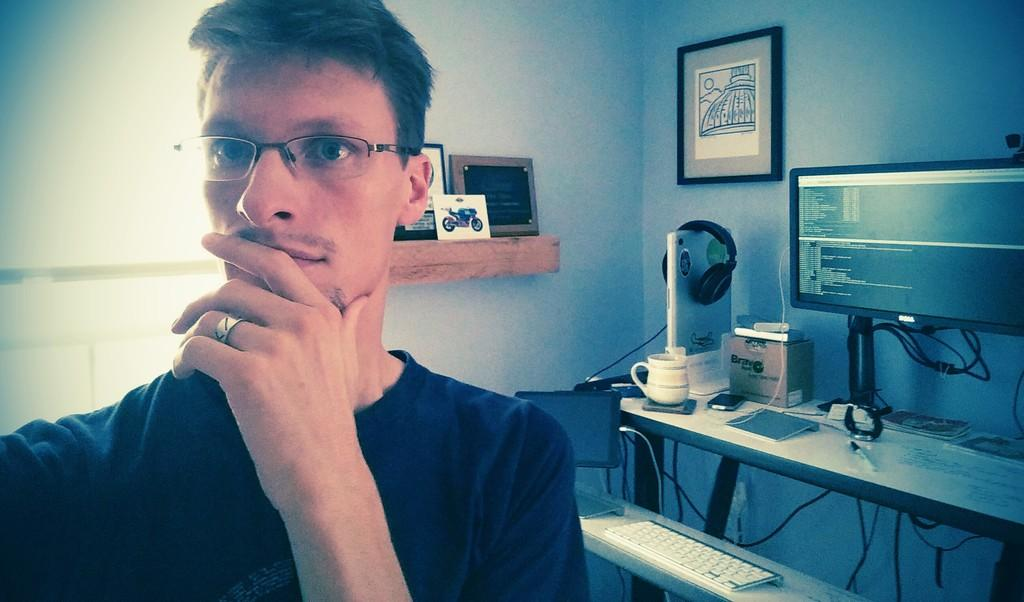Computer-monitor: (785, 153, 1021, 337)
Luggage-and-bags: (719, 323, 815, 408)
